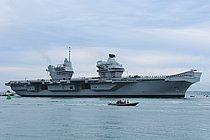MIL_Ship: (4, 53, 203, 100)
